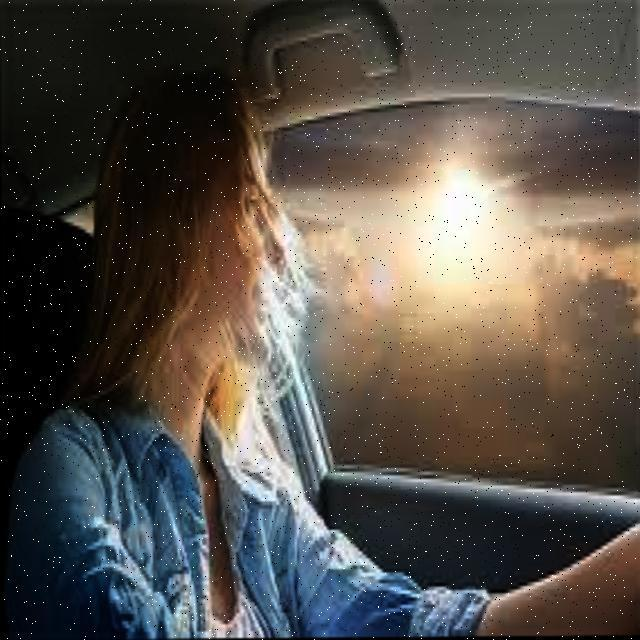noSeatbelt: (2, 350, 360, 640)
